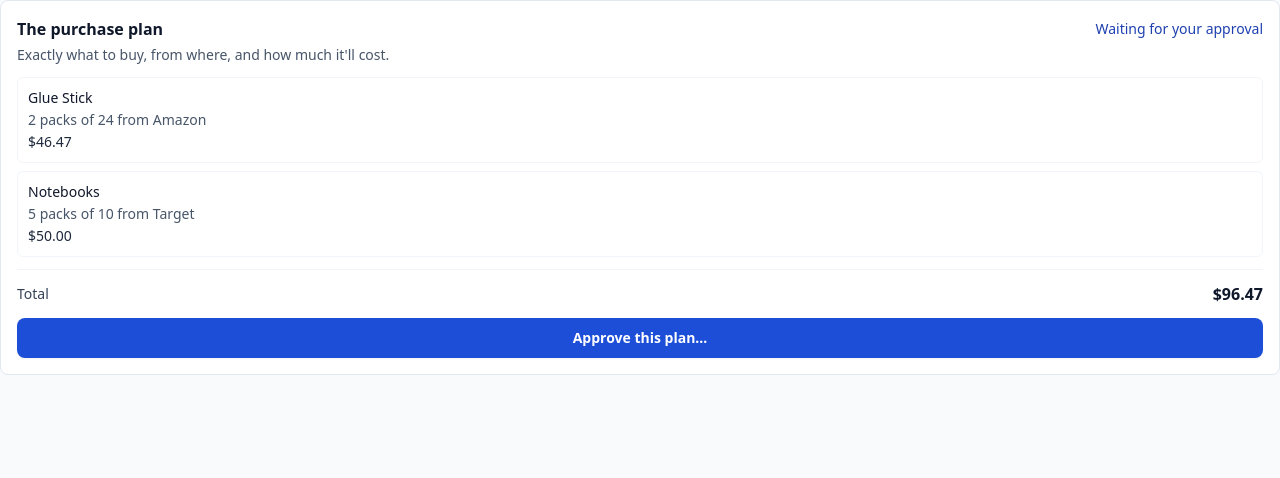
Test: PurchasePlanPanel › shows a generic error message if approving fails
This screenshot has width=1280, height=478.
expect the text "Glue Stick" is shown: met, box [28,88,92,107]
Click the button "Approve this plan…" at (640, 338), box [17,318,1263,358]
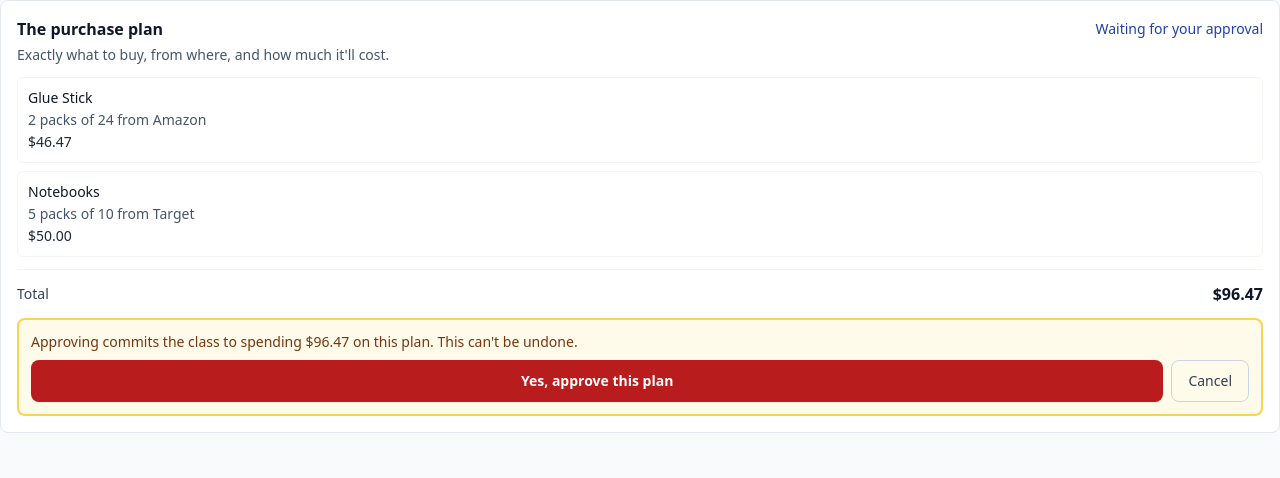
Click the button "Yes, approve this plan" at (597, 381), box [31,360,1163,402]
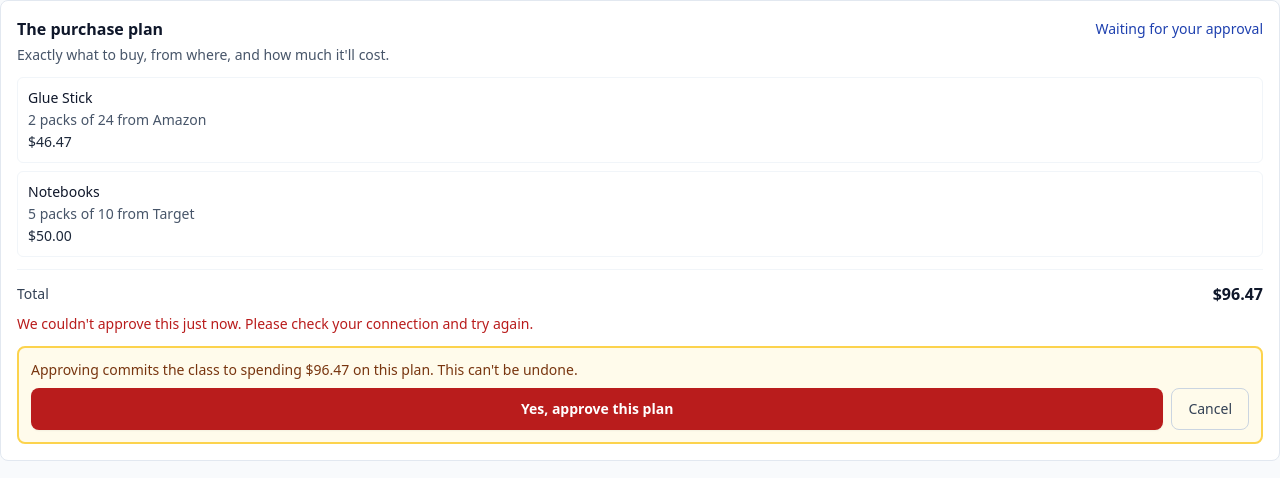
expect the text "We couldn't approve this just now. Please check your connection and try again." is shown: met, box [17,314,533,333]
